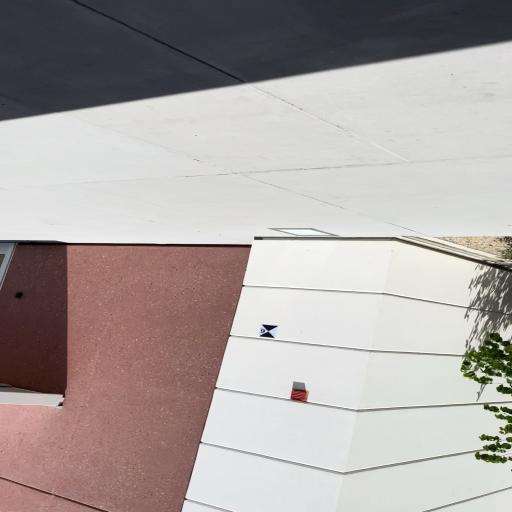target6: (258, 323, 279, 337)
